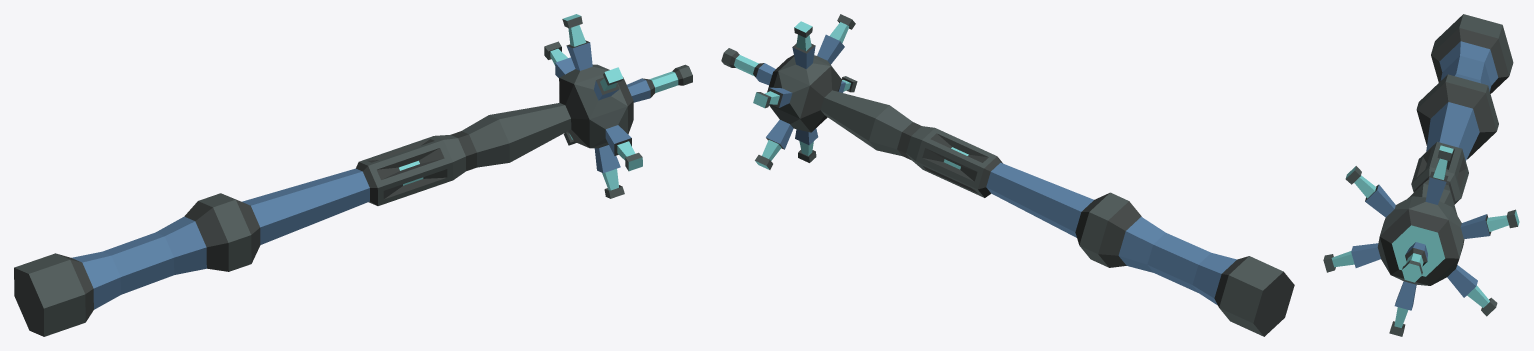
The model's file is baton.fbx.
3 renders of one model, left to right at view 1: azimuth 30°, elevation 25°; view 2: azimuth 150°, elevation 25°; view 3: azimuth 270°, elevation 25°, orthographic. The views are drawn at different scales.
Parts seen in each view (by area): view 1: Cube.001; view 2: Cube.001; view 3: Cube.001.
Part boxes in pixels (x1,y1,x2,y2): Cube.001: (14,14,692,336); Cube.001: (721,14,1294,336); Cube.001: (1323,14,1519,336).
Size of the model in its own units: 271 by 81.84 by 68.99.
